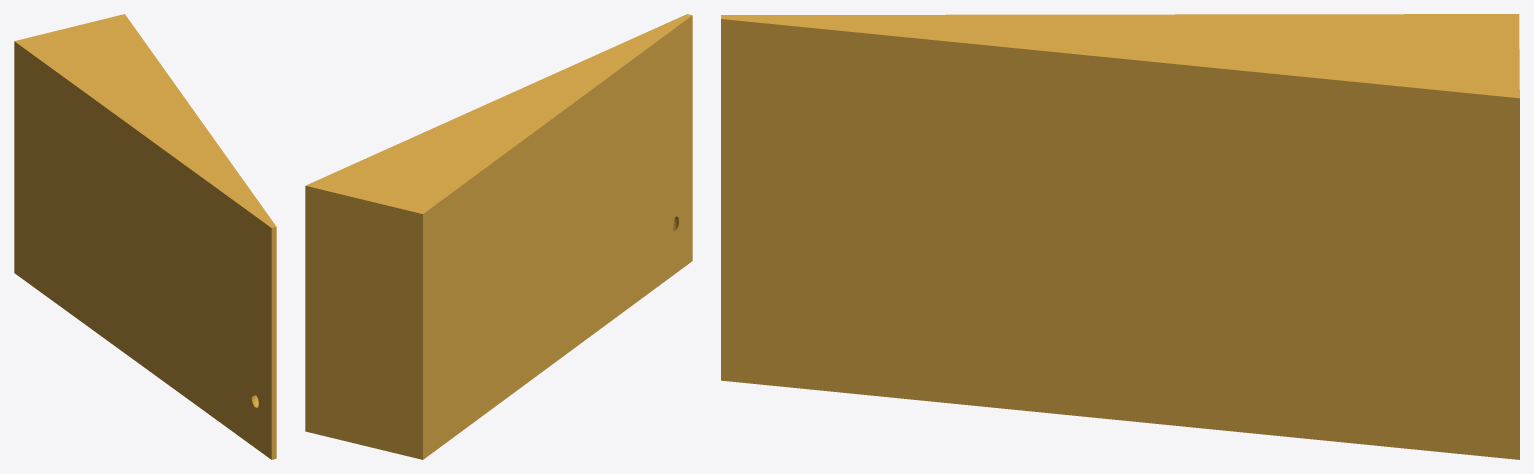
The model's file is CheeseRight.fbx.
3 renders of one model, left to right at view 1: azimuth 30°, elevation 25°; view 2: azimuth 150°, elevation 25°; view 3: azimuth 270°, elevation 25°, orthographic. The views are drawn at different scales.
Parts seen in each view (by area): view 1: Куб.002; view 2: Куб.002; view 3: Куб.002.
Part boxes in pixels (x1,y1,x2,y2): Куб.002: [14, 14, 276, 459]; Куб.002: [305, 14, 692, 459]; Куб.002: [721, 14, 1519, 459].
Size of the model in its own units: 100 by 200 by 400.
